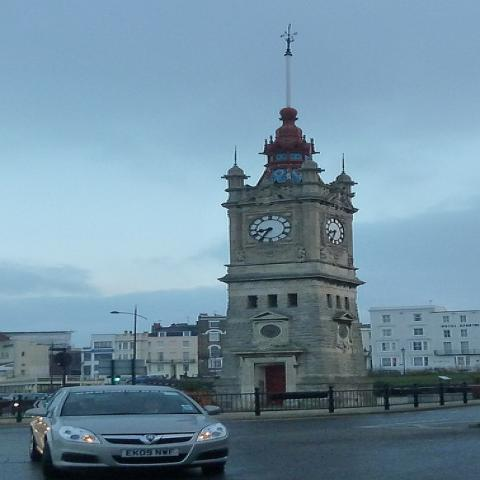car: (24, 387, 234, 472)
